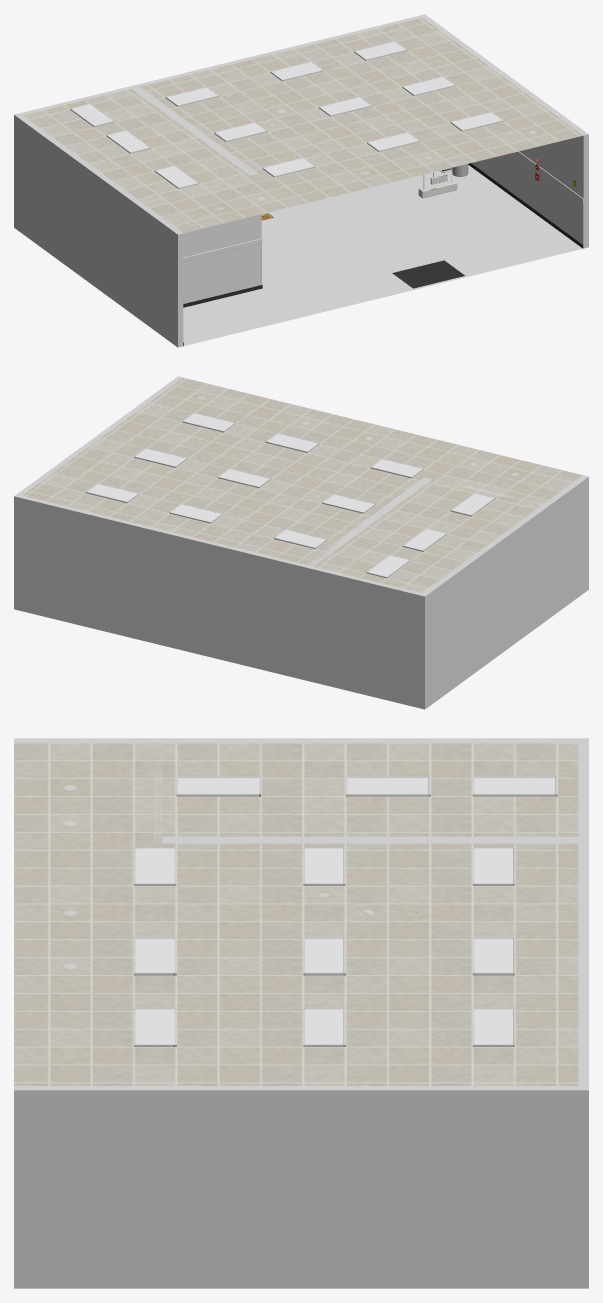
File: StoreShell.fbx
3 views of the same model, one above another, from view 1: azimuth 30°, elevation 25°; view 2: azimuth 150°, elevation 25°; view 3: azimuth 270°, elevation 25° (orthographic). The views are drawn at different scales.
Visible parts, largest first — view 1: StoreShell_Ceiling, StoreShell_Walls, StoreShell_Floor, StoreShell_LightPanels, StoreShell_Fixtures, StoreShell_DoorMat, StoreShell_LightFlicker; view 2: StoreShell_Walls, StoreShell_Ceiling, StoreShell_LightPanels, StoreShell_Fixtures, StoreShell_LightFlicker; view 3: StoreShell_Ceiling, StoreShell_Walls, StoreShell_LightPanels, StoreShell_Fixtures, StoreShell_LightFlicker.
Boxes of the visible parts, <box> form: StoreShell_Ceiling: <box>22,18,583,233</box>; StoreShell_Walls: <box>14,14,588,347</box>; StoreShell_Floor: <box>183,165,582,345</box>; StoreShell_LightPanels: <box>72,41,502,187</box>; StoreShell_Fixtures: <box>70,41,583,345</box>; StoreShell_DoorMat: <box>392,260,464,288</box>; StoreShell_LightFlicker: <box>320,97,370,114</box>; StoreShell_Walls: <box>14,376,588,709</box>; StoreShell_Ceiling: <box>22,377,583,592</box>; StoreShell_LightPanels: <box>87,413,493,576</box>; StoreShell_Fixtures: <box>85,396,518,578</box>; StoreShell_LightFlicker: <box>219,469,269,486</box>; StoreShell_Ceiling: <box>14,743,578,1085</box>; StoreShell_Walls: <box>14,738,588,1288</box>; StoreShell_LightPanels: <box>135,777,555,1043</box>; StoreShell_Fixtures: <box>19,776,557,1058</box>; StoreShell_LightFlicker: <box>305,938,343,972</box>.
Size of the model in its own units: 11.8 by 3.13 by 8.15.
